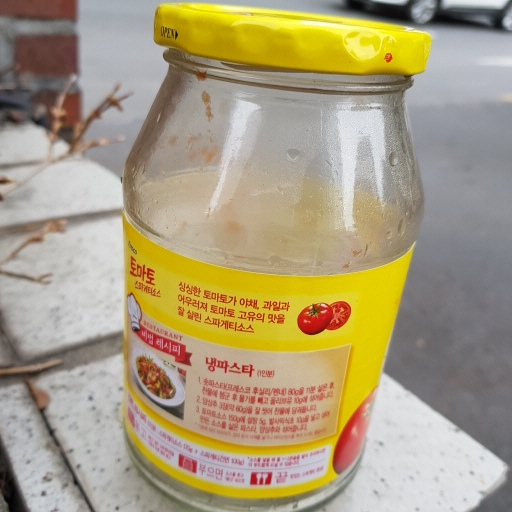Glass_5: (120, 2, 433, 508)
